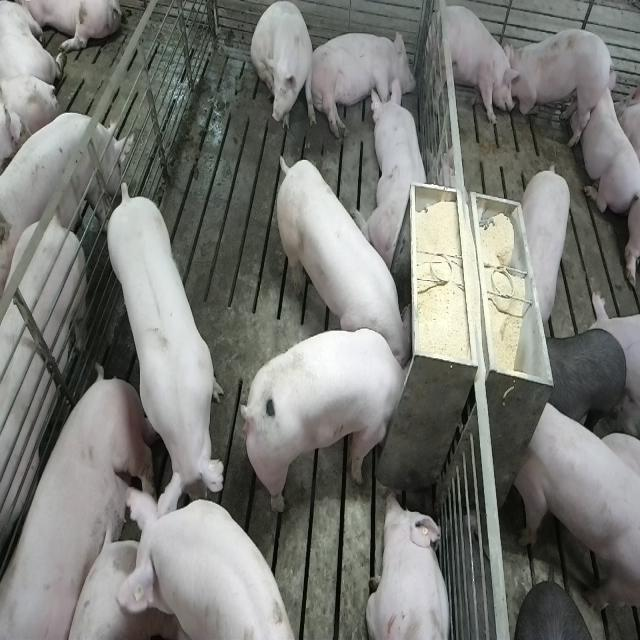Feeding: (246, 326, 419, 516), (274, 150, 411, 364)
Lateral_lying: (3, 366, 161, 640), (308, 27, 417, 140)
Sitting: (251, 3, 316, 140)
Standing: (105, 181, 227, 521), (0, 212, 90, 586), (514, 394, 638, 612), (117, 488, 294, 640), (0, 106, 126, 274), (508, 27, 613, 148), (429, 2, 518, 131), (545, 327, 629, 436), (521, 161, 574, 327)
Sternal_lying: (358, 77, 431, 266), (366, 490, 454, 640), (580, 73, 639, 215)
